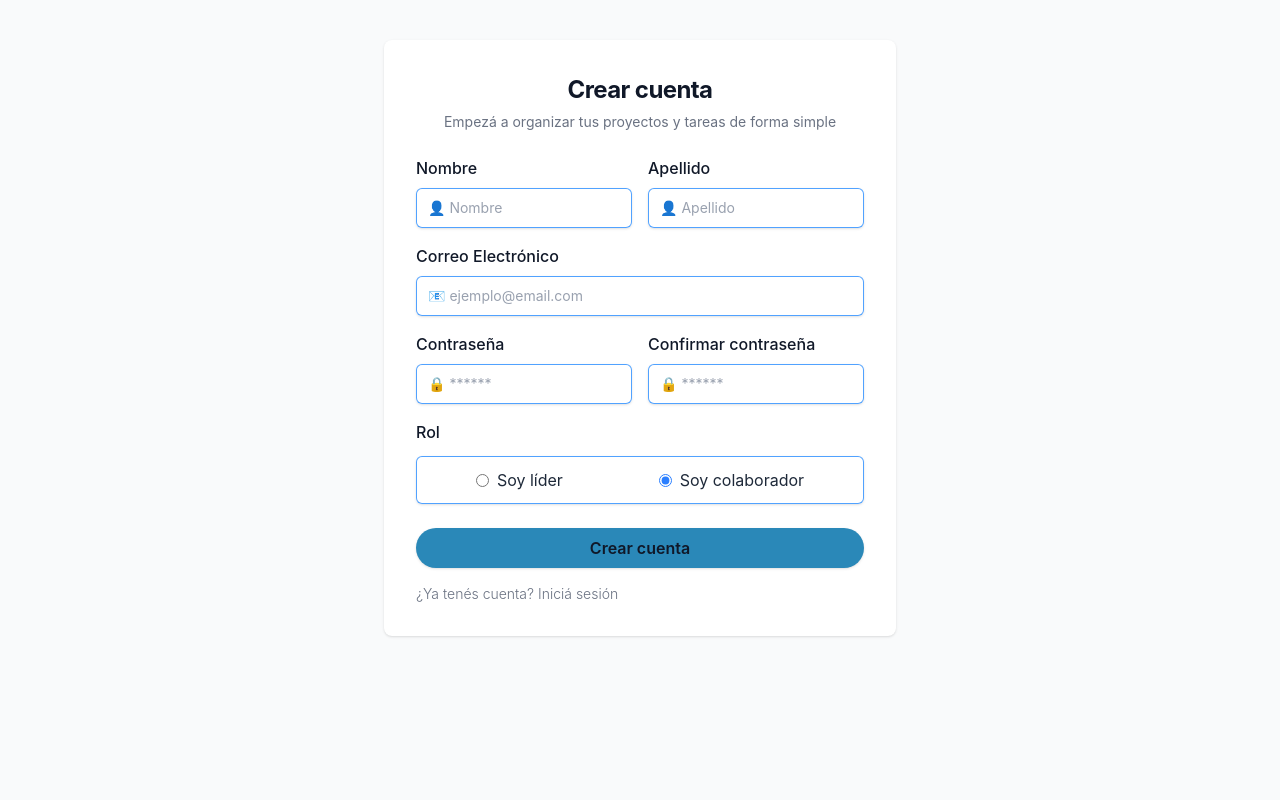
Test case: Register › muestra error cuando las contraseñas no coinciden
Type "Juan" into the field with placeholder "👤 Nombre". click: x=524, y=208
box: [416, 188, 632, 228]
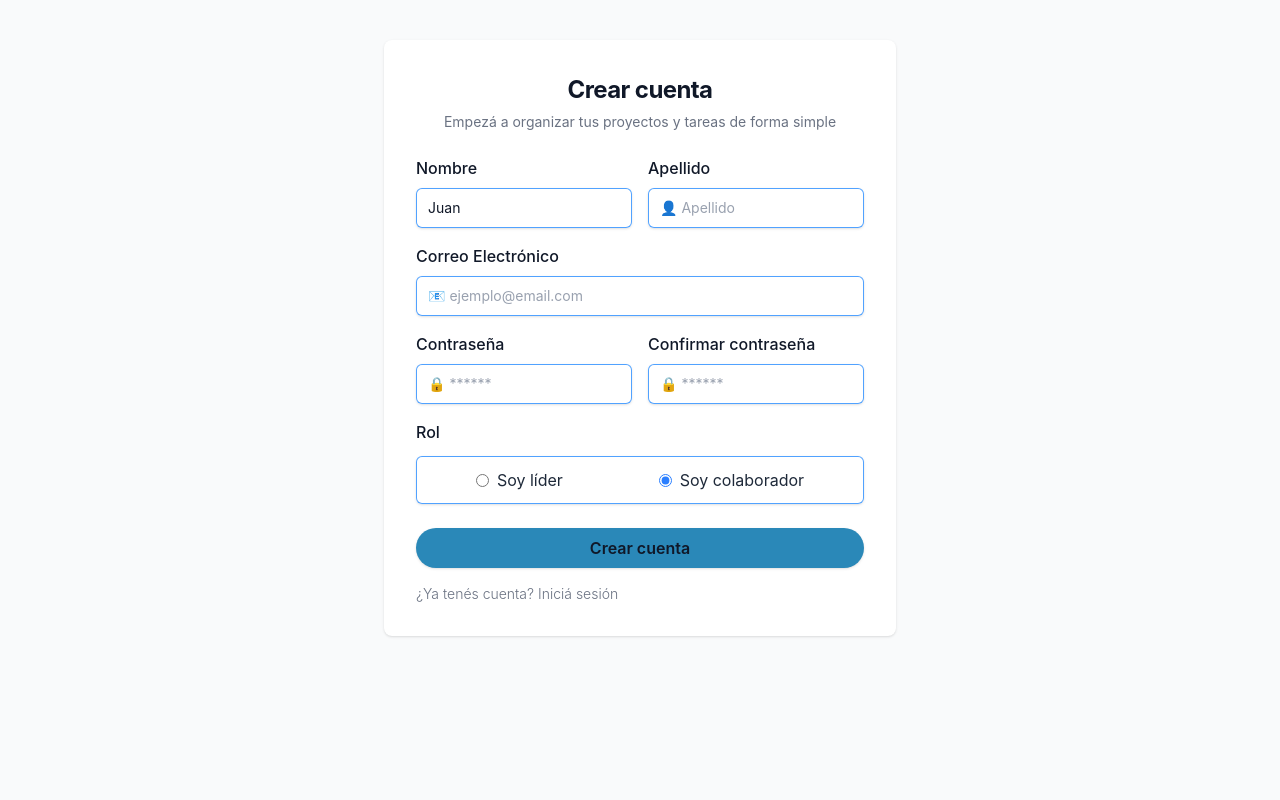
Type "Perez" into the field with placeholder "👤 Apellido". click: x=756, y=208
box: [648, 188, 864, 228]
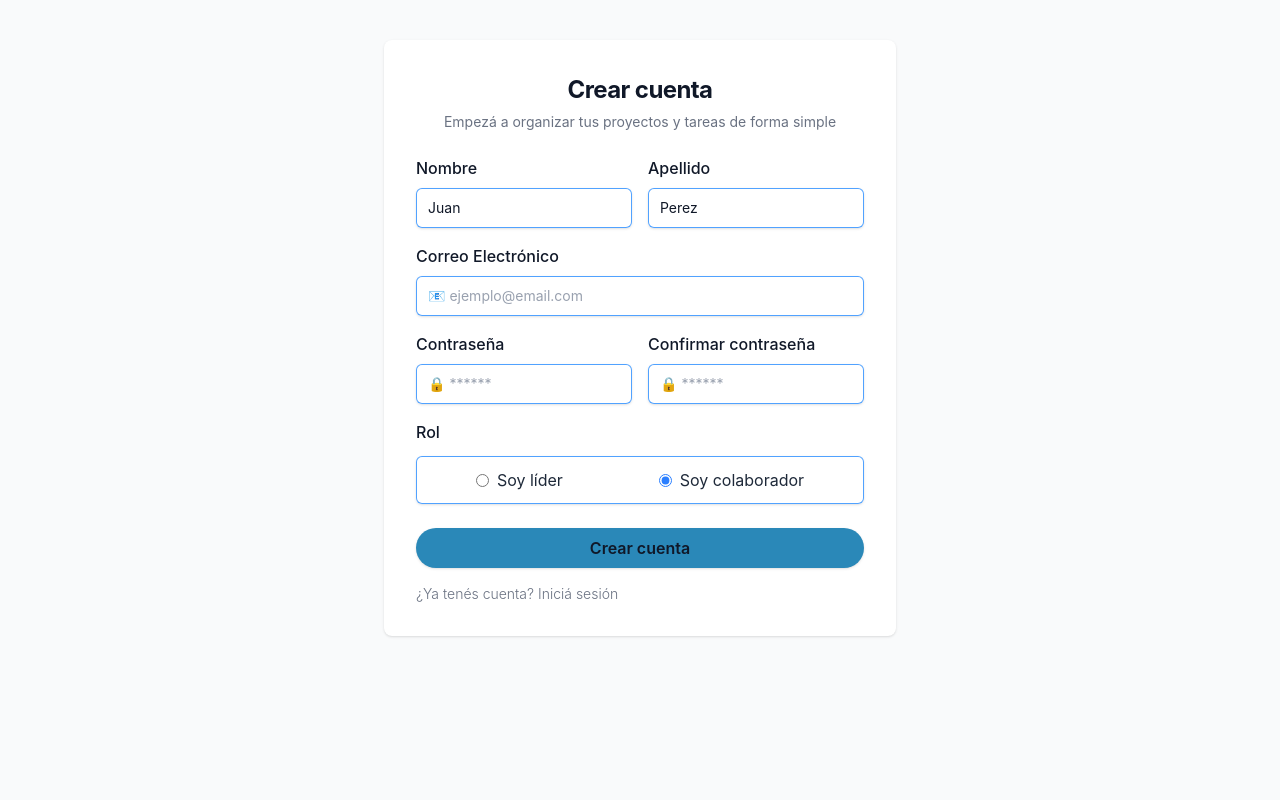
Type "juan@test.com" into the field with placeholder "📧 ejemplo@email.com". click: x=640, y=296
box: [416, 276, 864, 316]
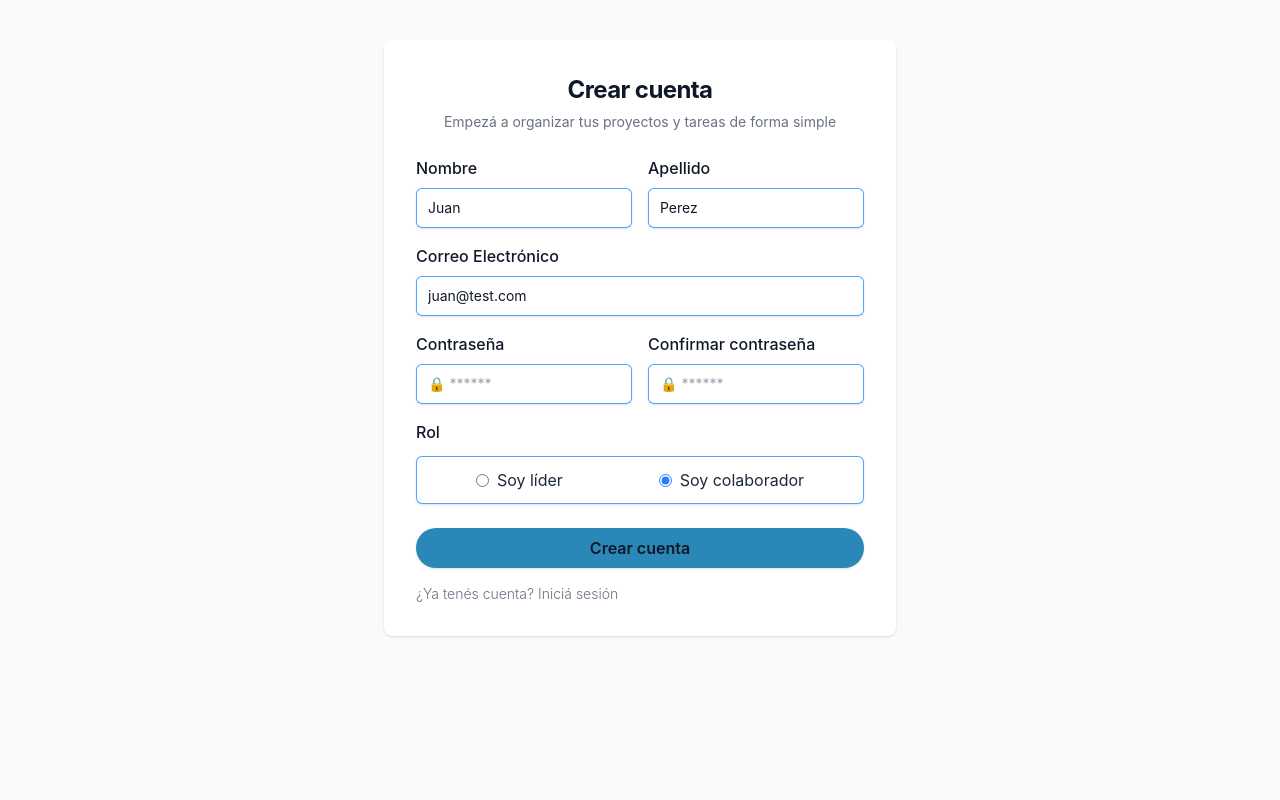
Type "12345678" into the 1st password field with placeholder "🔒 ******". click: x=524, y=384
box: [416, 364, 632, 404]
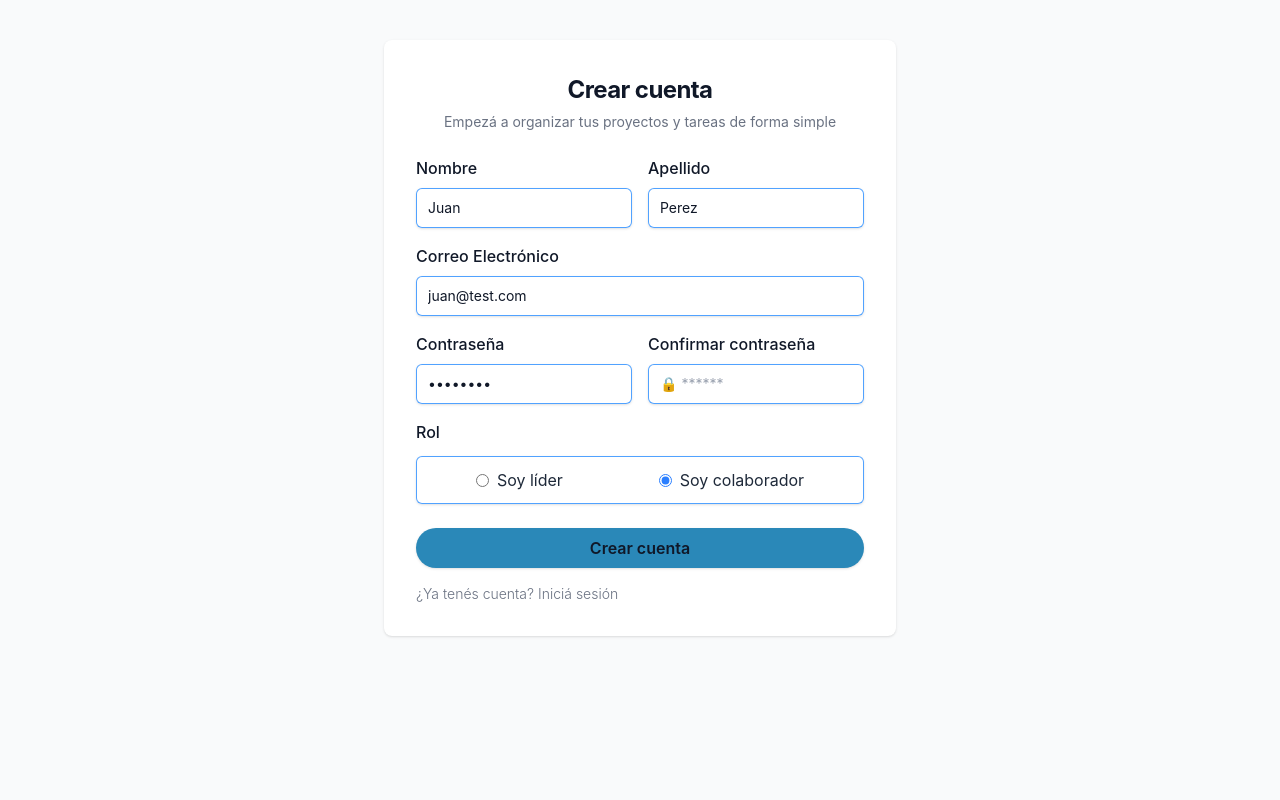
Type "87654321" into the password field with placeholder "🔒 ******". click: x=756, y=384
box: [648, 364, 864, 404]
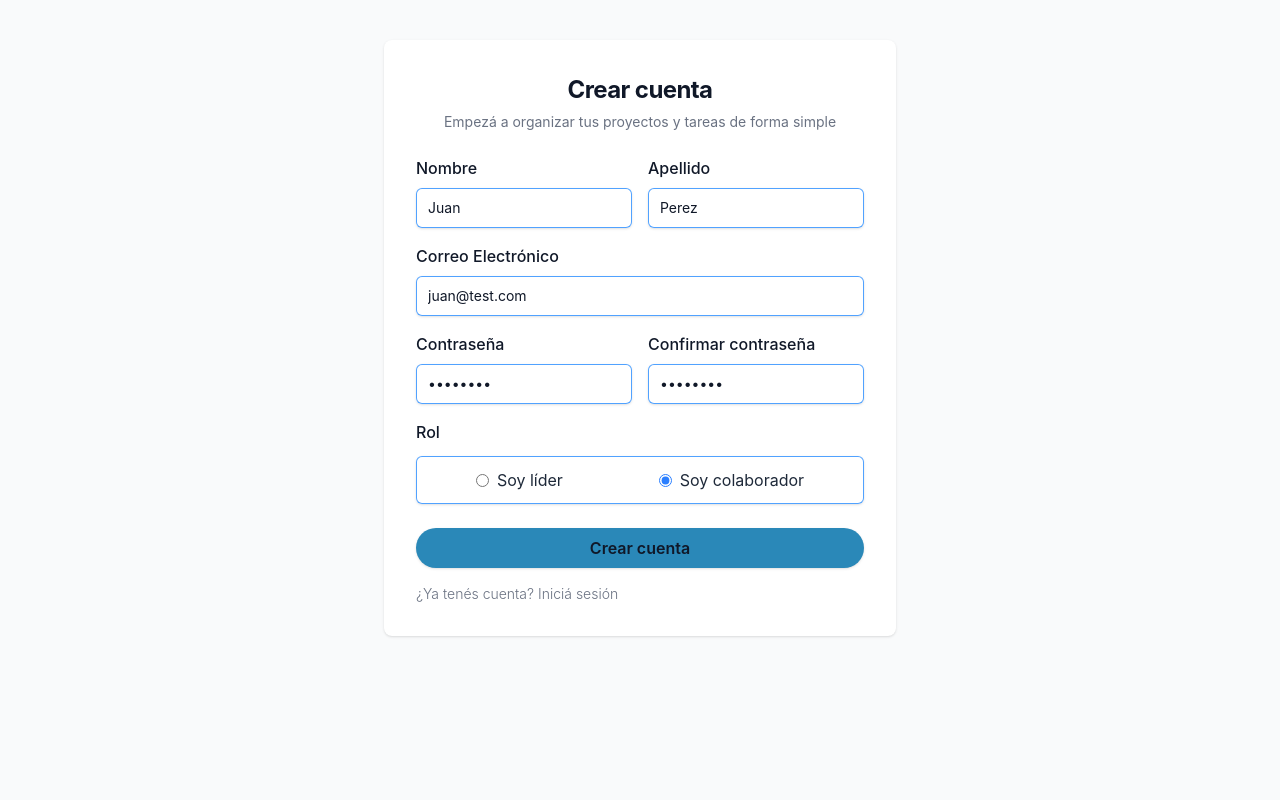
Click the button "Crear cuenta". click: x=640, y=548
box: [416, 528, 864, 568]
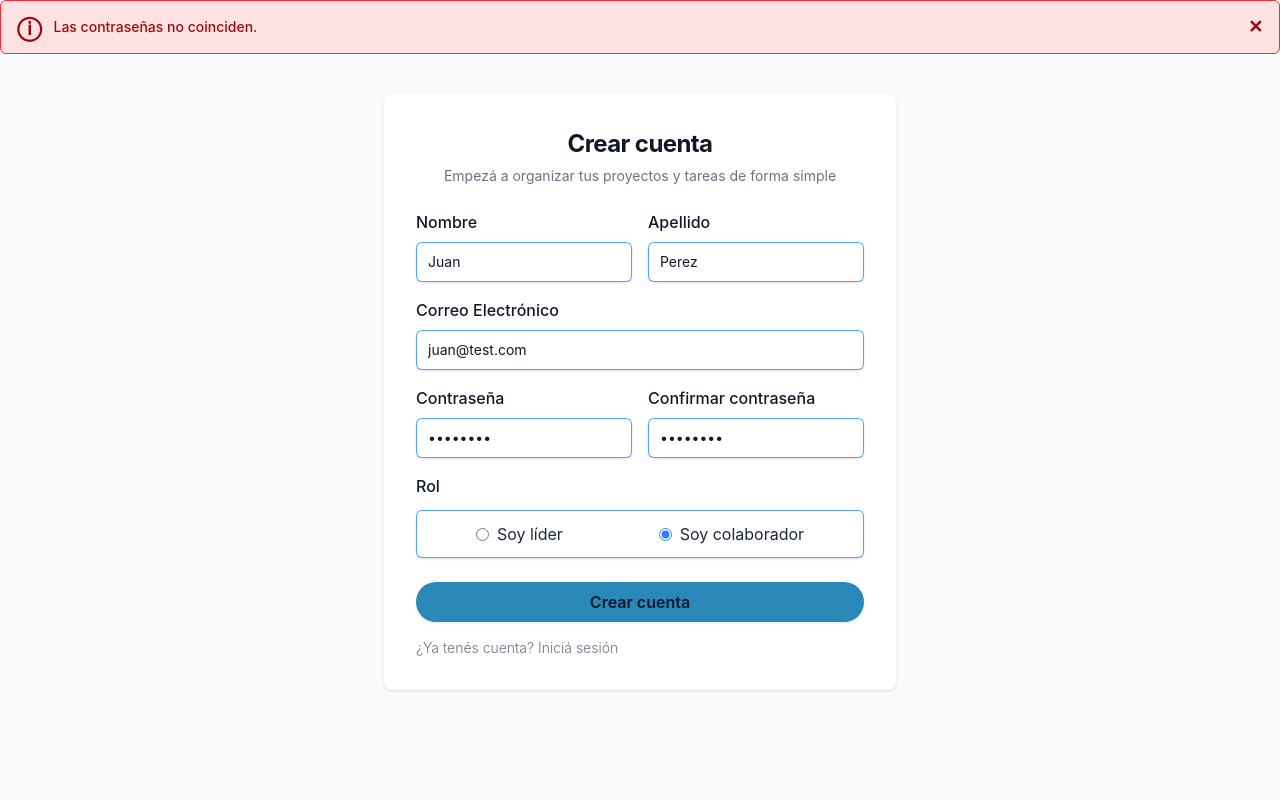
Now the text "Las contraseñas no coinciden." is shown, box [54, 17, 257, 37]
